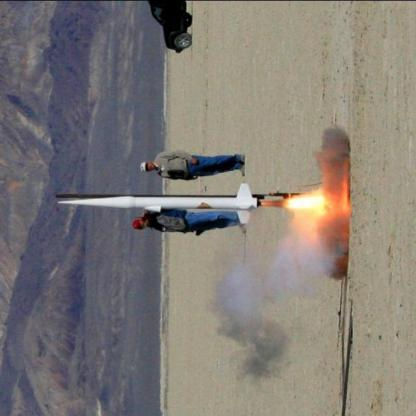MIL_TBM: (56, 192, 258, 214)
